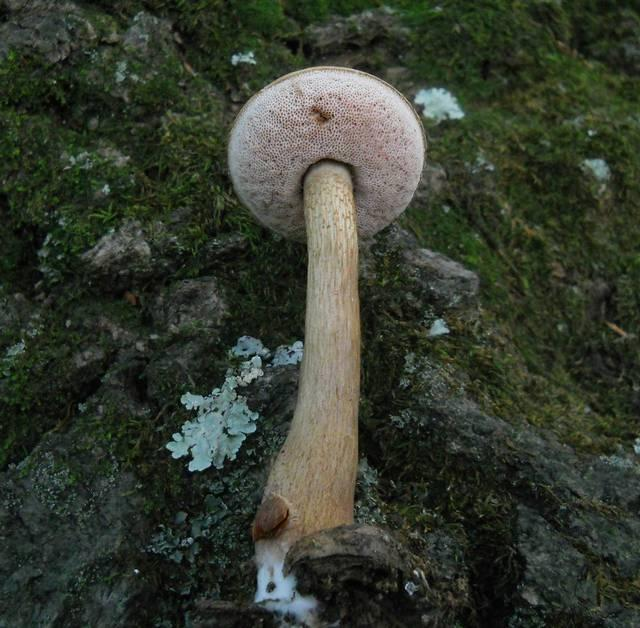poisonous_mushroom: (225, 63, 427, 615)
